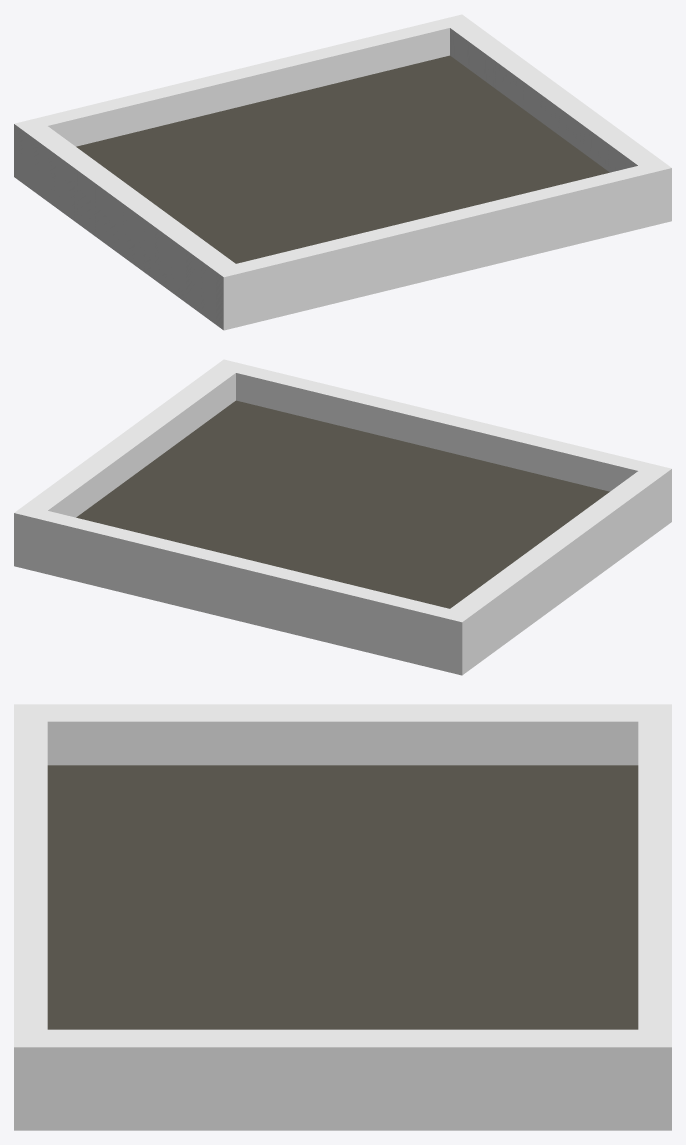
The model's file is CityBuildingC_01_roof.fbx.
The picture shows the model from 3 angles, top to bottom: view 1: azimuth 30°, elevation 25°; view 2: azimuth 150°, elevation 25°; view 3: azimuth 270°, elevation 25°; orthographic projection. The views are drawn at different scales.
Visible parts, largest first — view 1: CityBuildingC_01_roof; view 2: CityBuildingC_01_roof; view 3: CityBuildingC_01_roof.
Boxes of the visible parts, <box> form: CityBuildingC_01_roof: <box>14,14,671,330</box>; CityBuildingC_01_roof: <box>14,359,671,675</box>; CityBuildingC_01_roof: <box>14,704,671,1130</box>.
Size of the model in its own units: 0.6706 by 0.0761 by 0.5438.
